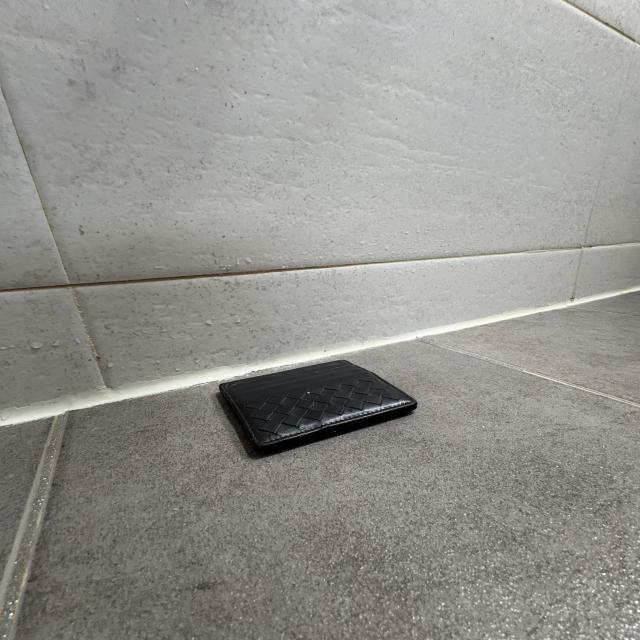wallet: (218, 358, 420, 464)
